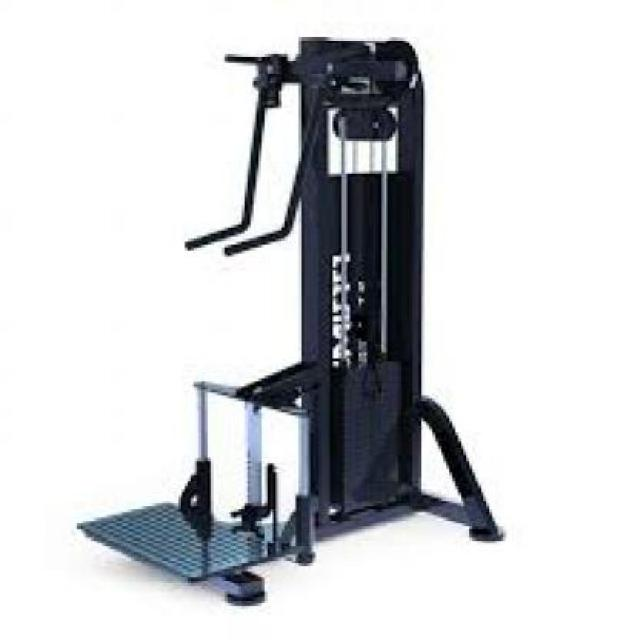lateral raises machine: (174, 36, 506, 566)
